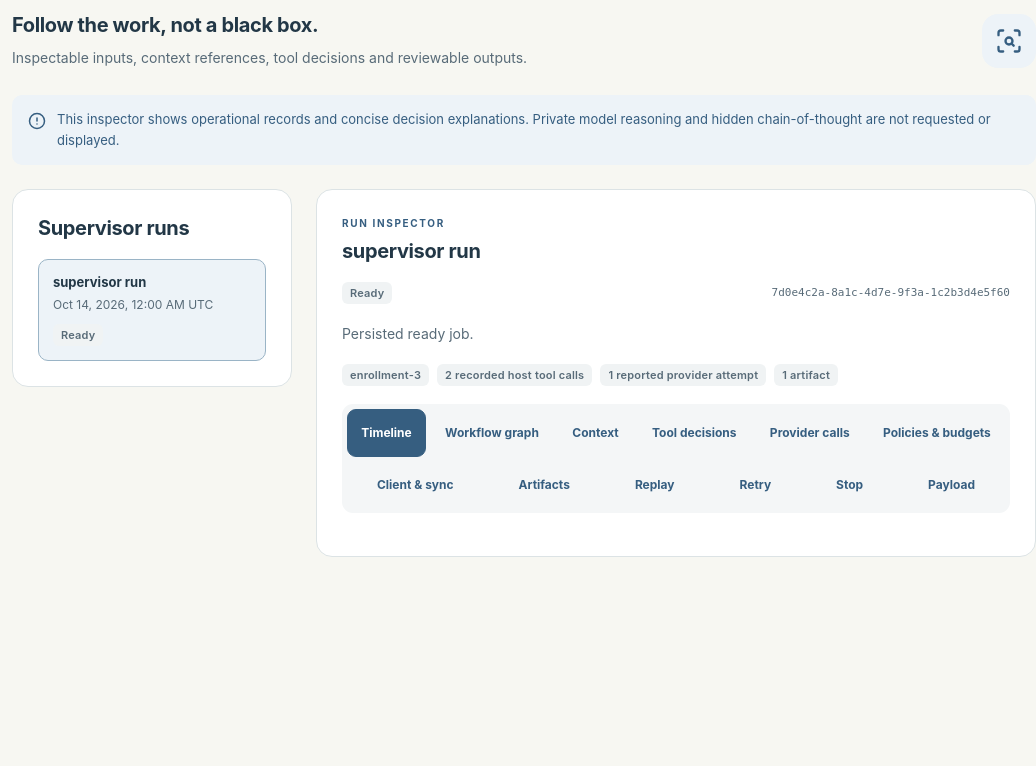
run inspector completion › draws the workflow graph, policies and budgets, and client and sync state
Click the button "Workflow graph" at (492, 433), box [431, 409, 553, 457]
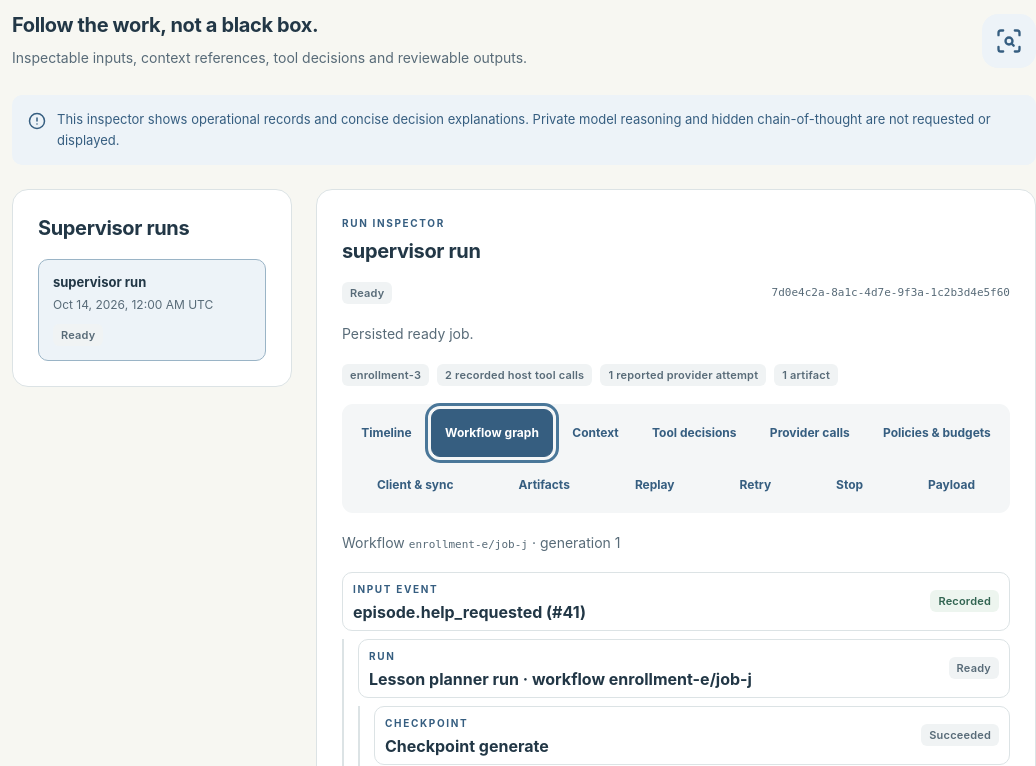
Click the button "Policies & budgets" at (937, 433), box [869, 409, 1005, 457]
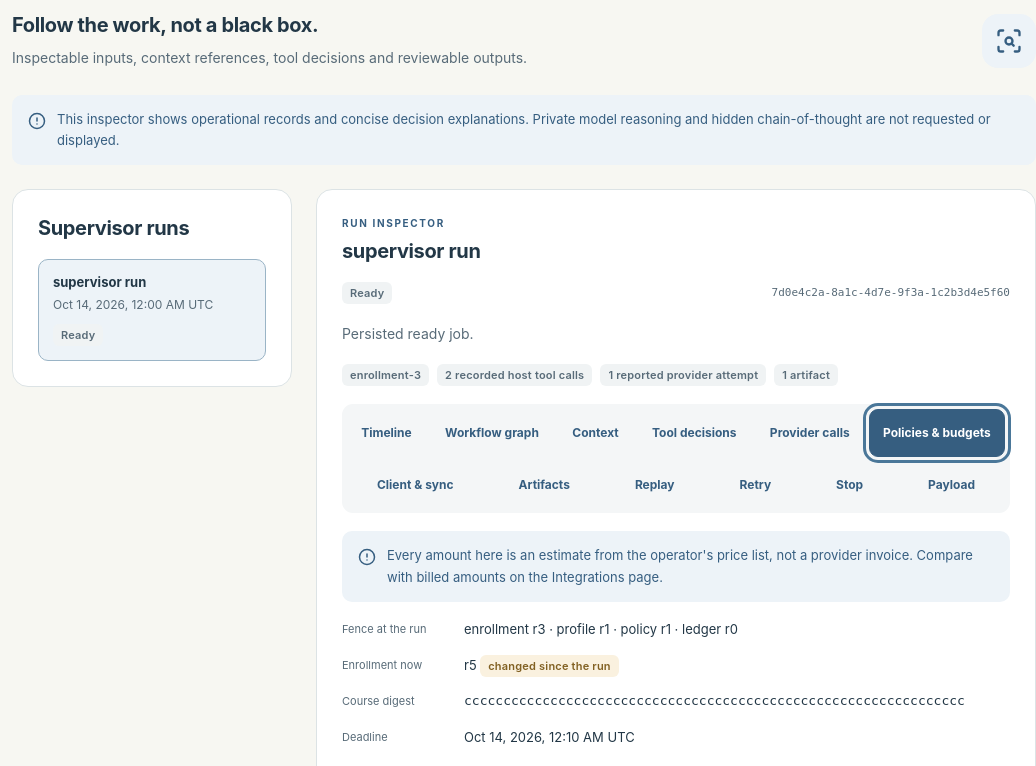
expect the text "changed since the run" is shown: met, box [480, 655, 619, 677]
Click the button "Client & sync" at (415, 485), box [347, 462, 484, 508]
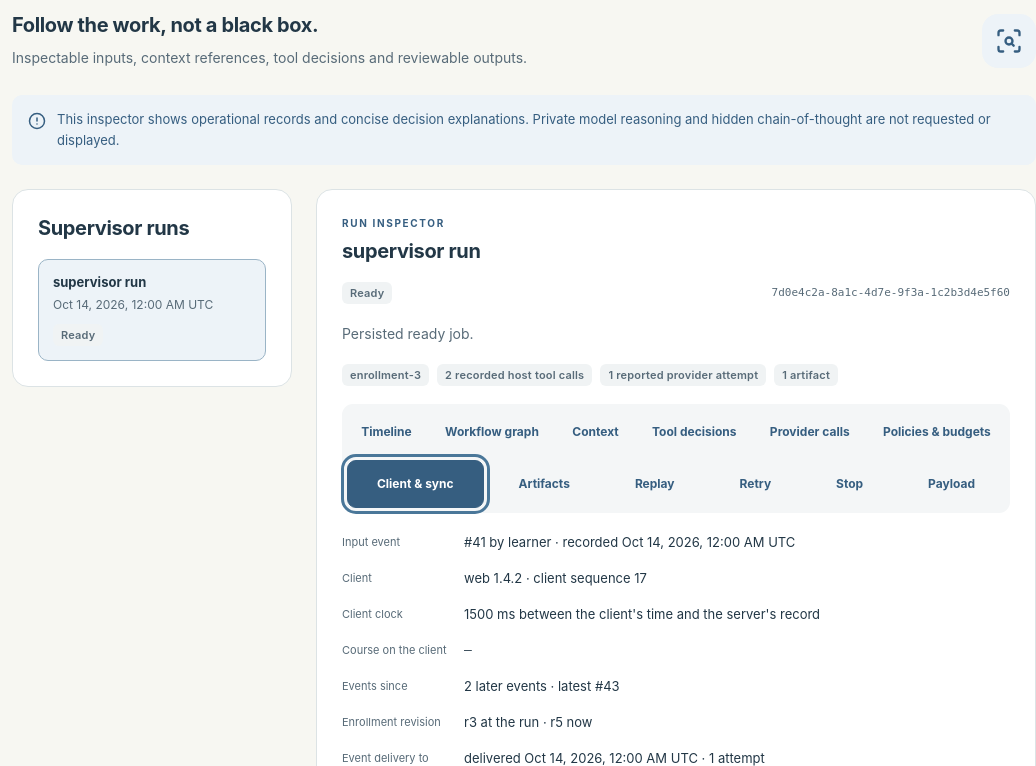
expect the text "web 1.4.2 · client sequence 17" is shown: met, box [464, 570, 647, 586]
expect the text "1500 ms between the client's time and the server's record" is shown: met, box [464, 606, 820, 622]
expect the text "r3 at the run · r5 now" is shown: met, box [464, 714, 592, 730]
